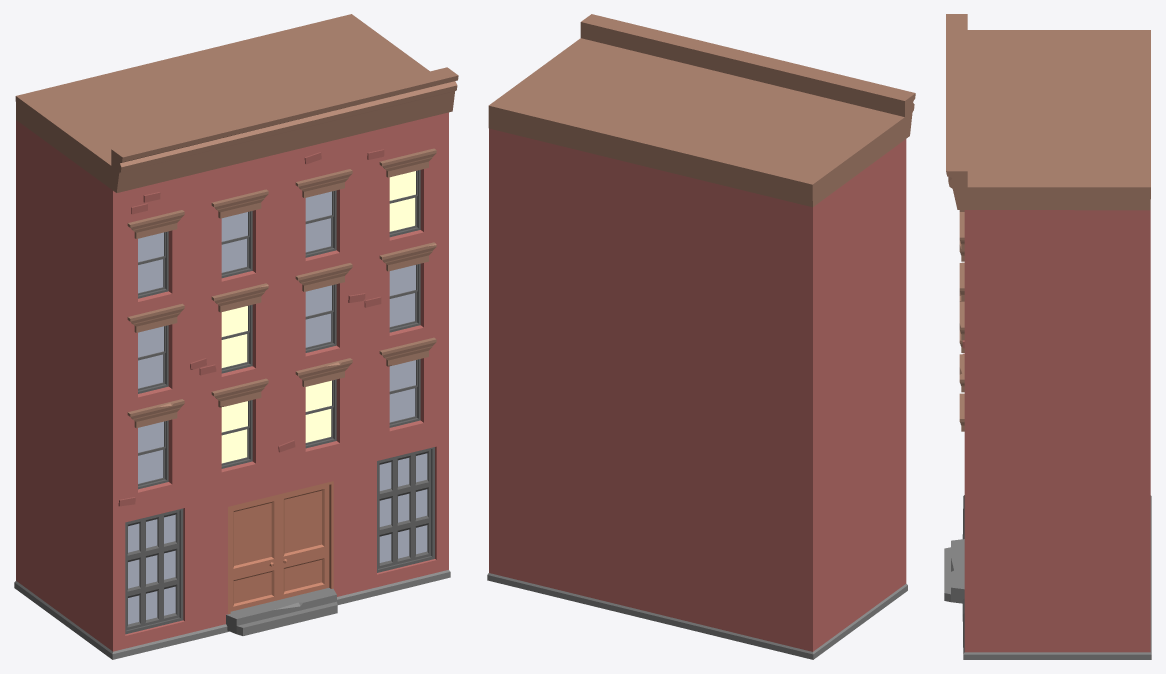
The model's file is building_04.glb.
3 renders of one model, left to right at view 1: azimuth 30°, elevation 25°; view 2: azimuth 150°, elevation 25°; view 3: azimuth 270°, elevation 25°, orthographic. The views are drawn at different scales.
Parts seen in each view (by area): view 1: red; view 2: red; view 3: red.
Part boxes in pixels (<box>): red: <box>14,14,458,659</box>; red: <box>487,14,915,659</box>; red: <box>944,14,1151,659</box>.
Bounding box in the file's own units: 2.42 × 3.48 × 1.34.
